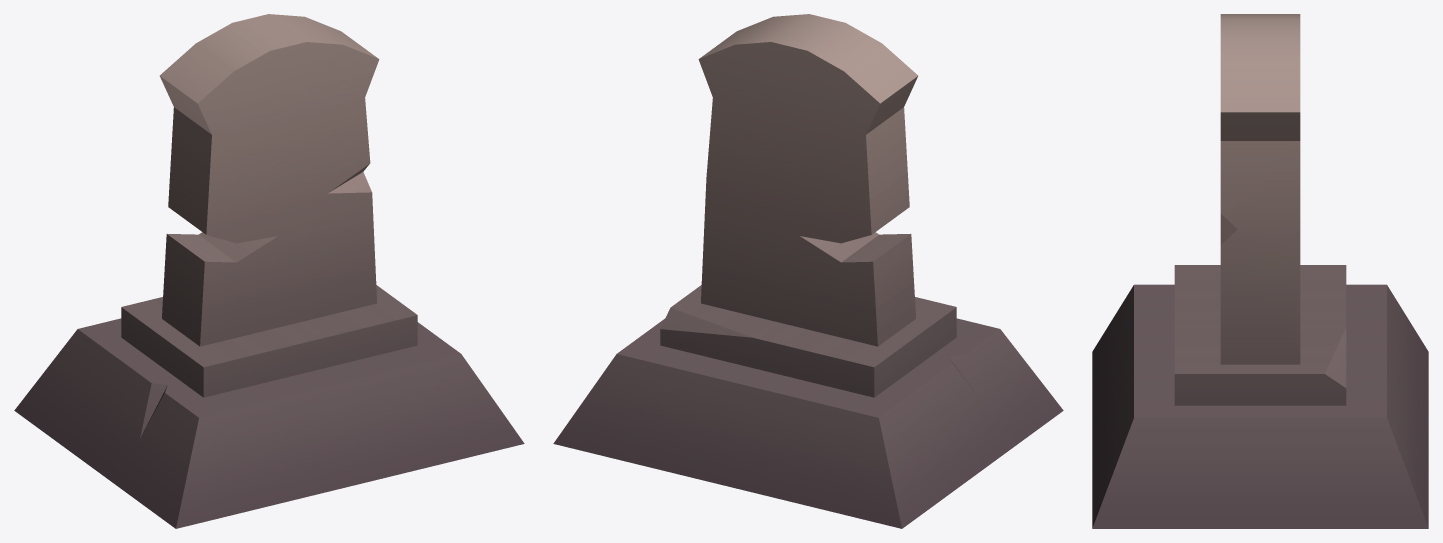
File: tombstone5Weathered.glb
The picture shows the model from 3 angles, left to right: view 1: azimuth 30°, elevation 25°; view 2: azimuth 150°, elevation 25°; view 3: azimuth 270°, elevation 25°; orthographic projection. The views are drawn at different scales.
Parts seen in each view (by area): view 1: tombstone5Weathered; view 2: tombstone5Weathered; view 3: tombstone5Weathered.
Boxes of the visible parts, x1,y1,x2,y2 form: tombstone5Weathered: [14, 14, 524, 528]; tombstone5Weathered: [553, 14, 1063, 528]; tombstone5Weathered: [1092, 14, 1428, 528].
Size of the model in its own units: 0.885 by 0.9572 by 0.7103.
1 material, 1 textured.
